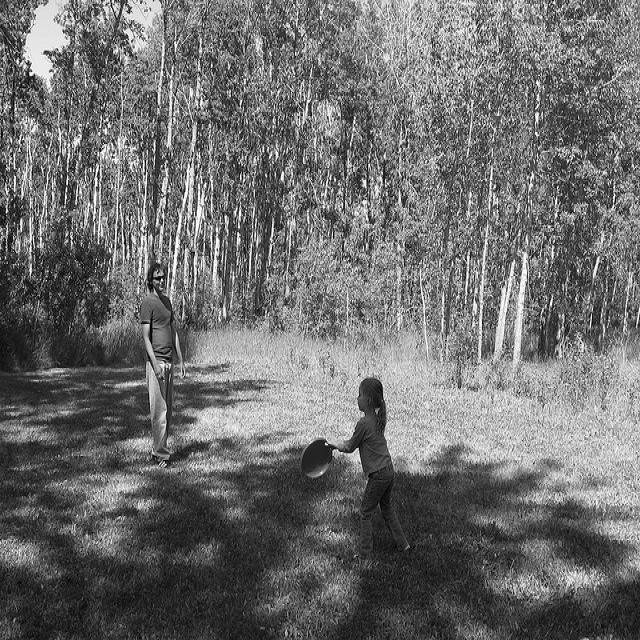monkey: (324, 378, 411, 560), (140, 263, 186, 469)
